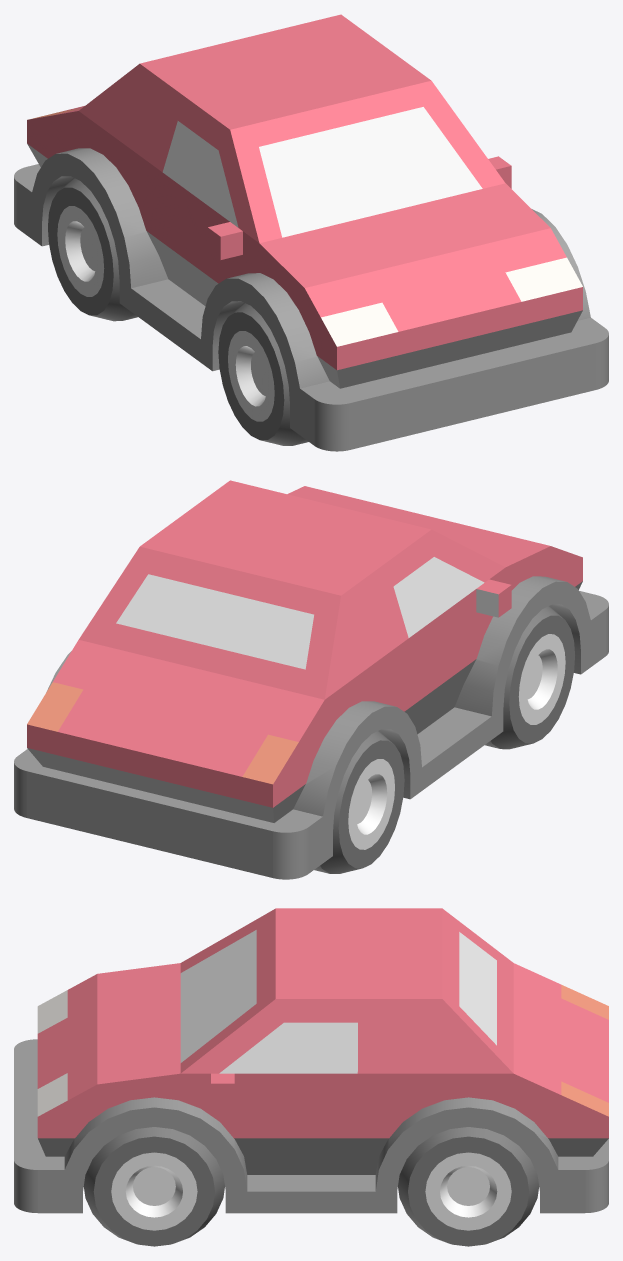
File: sedanSports.glb
3 renders of one model, top to bottom at view 1: azimuth 30°, elevation 25°; view 2: azimuth 150°, elevation 25°; view 3: azimuth 270°, elevation 25°, orthographic. The views are drawn at different scales.
Visible parts, largest first — view 1: body, wheel_backRight, wheel_frontRight; view 2: body, wheel_frontRight, wheel_backRight; view 3: body, wheel_backLeft, wheel_frontLeft.
Boxes of the visible parts, box(x1,y1,x2,y2) form: body: box(14, 14, 608, 451); wheel_backRight: box(48, 178, 137, 321); wheel_frontRight: box(218, 303, 308, 445); body: box(14, 480, 608, 879); wheel_frontRight: box(485, 606, 574, 749); wheel_backRight: box(314, 731, 404, 873); body: box(14, 908, 608, 1213); wheel_backLeft: box(398, 1127, 539, 1246); wheel_frontLeft: box(83, 1127, 224, 1246).
Size of the model in its own units: 0.975 by 0.825 by 1.88.
